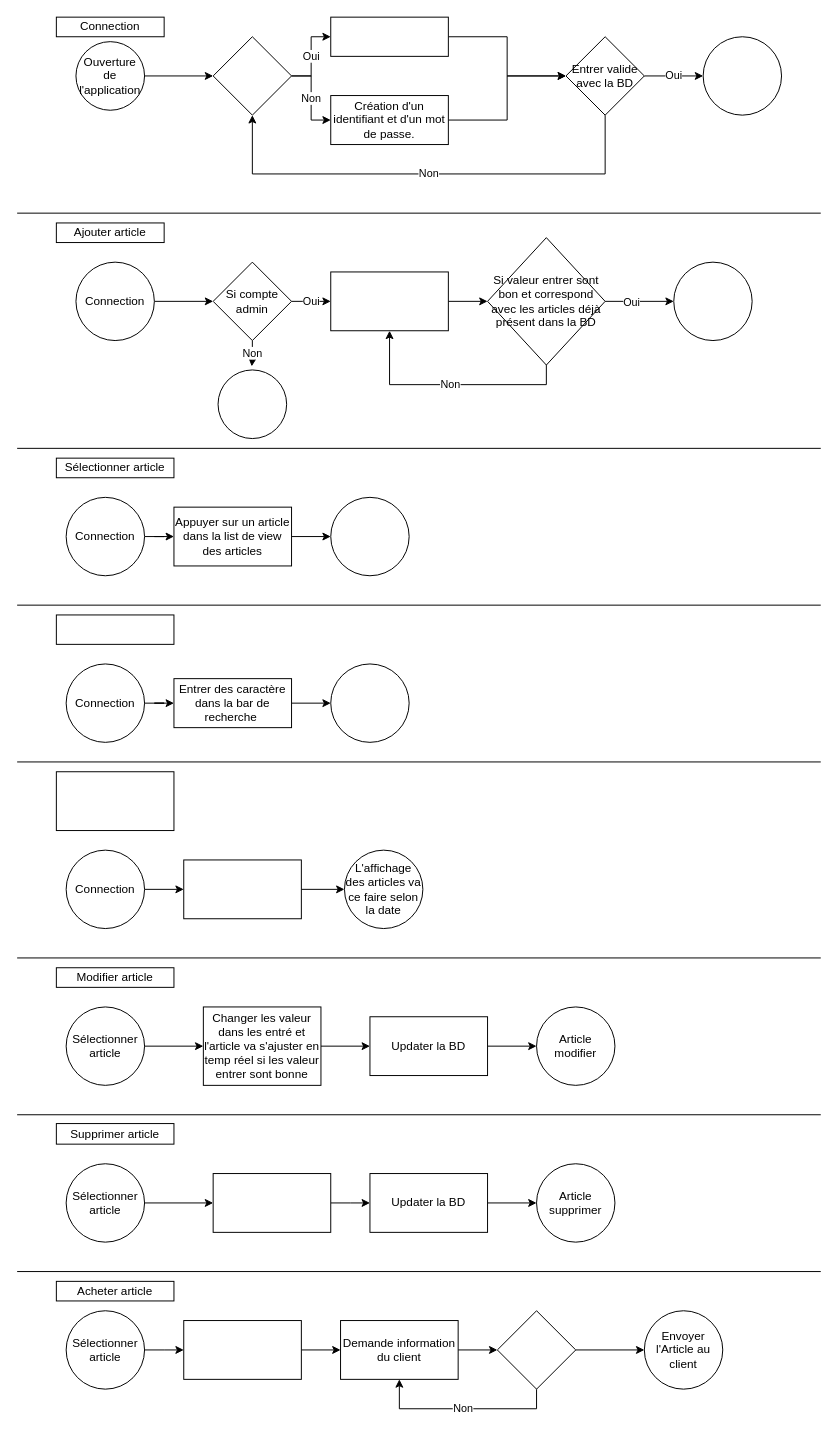
The diagram is 839 pixels wide and 1434 high, and some of its shapes have lost their labels. The shapes that lost their labels are listed below. From the top down, each one's centre as x and y in pixels, then its label:
pixel 389 36: Entrer l'identifiant et le mot de passe
pixel 252 75: Compte existant
pixel 742 75: Accès a l'application
pixel 389 301: Entrer les valeur correspondante à l'article
pixel 712 301: Ajout de l'article dans la BD
pixel 252 404: Ne peux pas ajouter d'article
pixel 369 536: Article sélectionner
pixel 114 629: Recherche article par nom
pixel 369 702: L'affichage des article va s'ajuster selon le nom
pixel 114 801: Trier article par date
pixel 242 889: Appuyer sur le bouton pour trier les articles selon leur date
pixel 271 1202: Appuyer sur le bouton supprimer
pixel 242 1349: Appuyer sur acheter
pixel 536 1349: Si les info sont bonne
